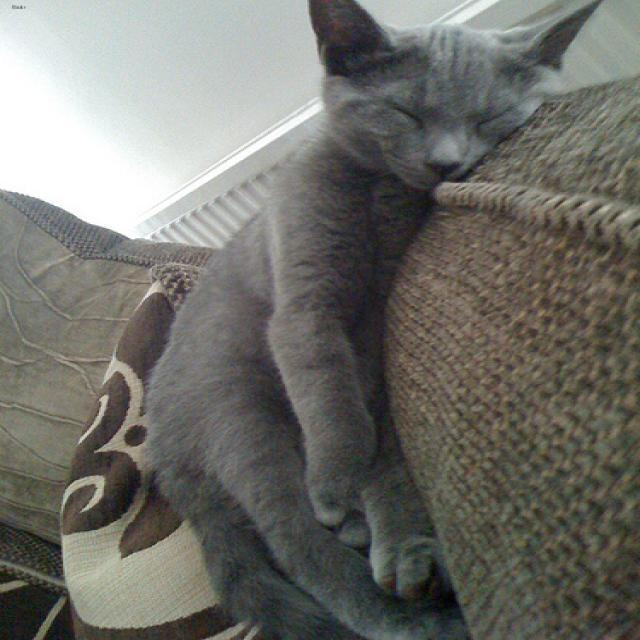Russian_Blue: (296, 0, 609, 206)
